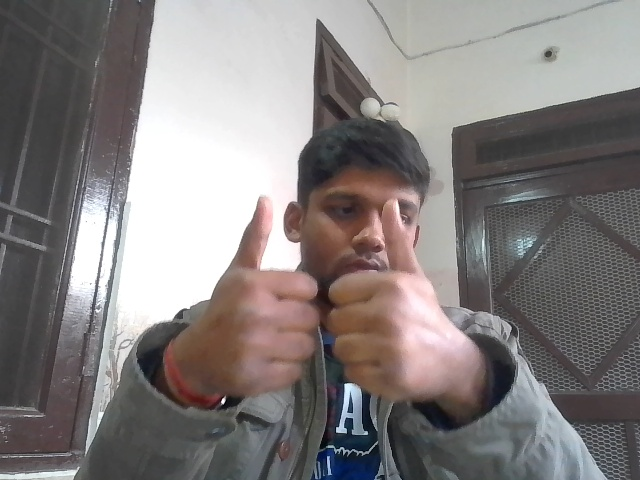Excellent: (189, 193, 448, 413)
